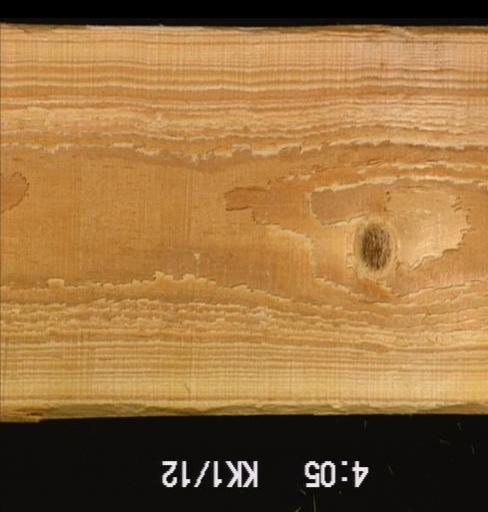sound_knot: (357, 222, 392, 272)
wave: (0, 401, 486, 422), (200, 22, 486, 35), (0, 21, 89, 33)
